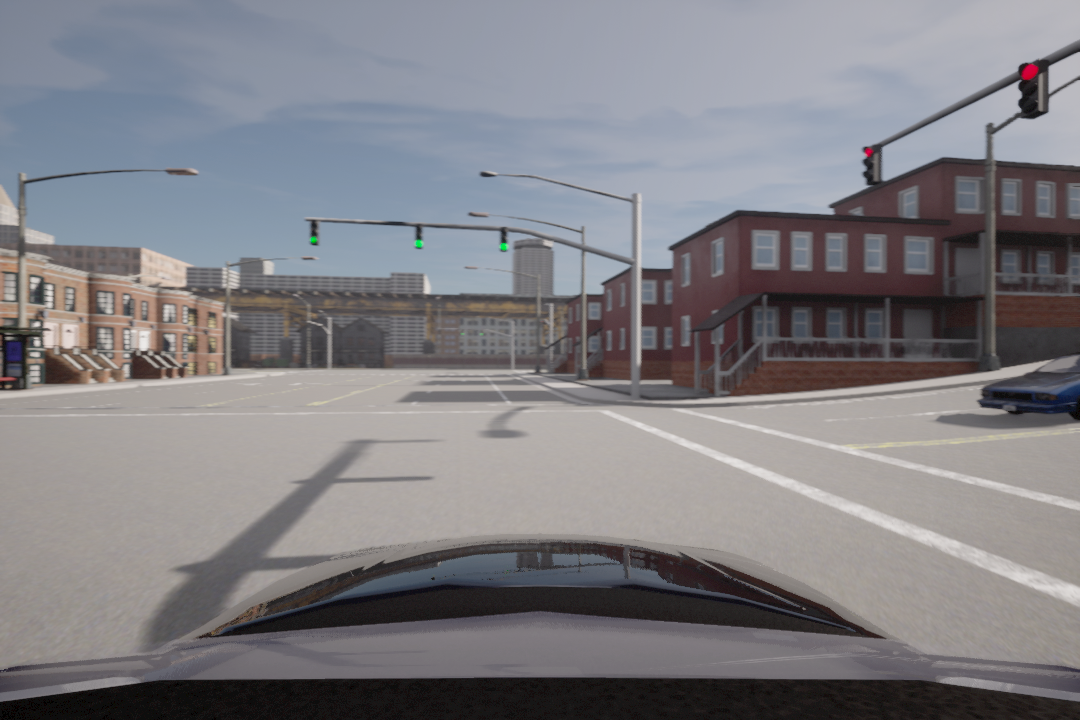TrafficLight: (1007, 57, 1049, 119), (858, 144, 884, 185), (304, 213, 326, 245), (411, 220, 427, 249), (497, 228, 509, 254)
